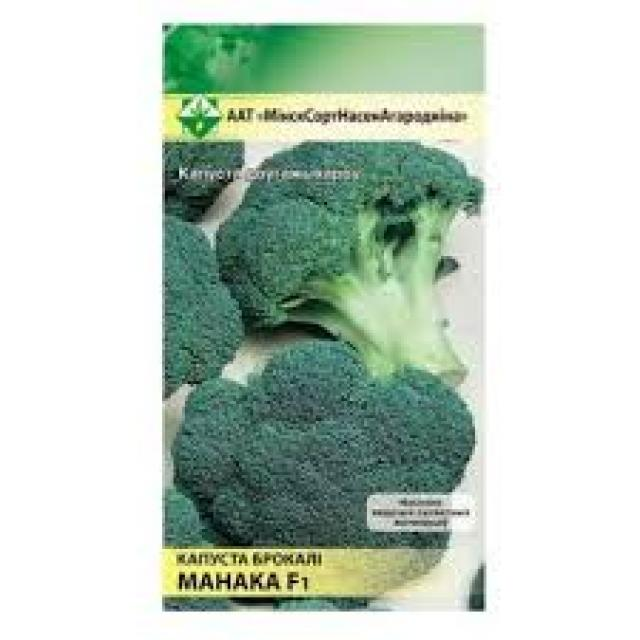broccoli: (156, 334, 494, 581), (217, 128, 483, 365), (150, 110, 236, 386)
